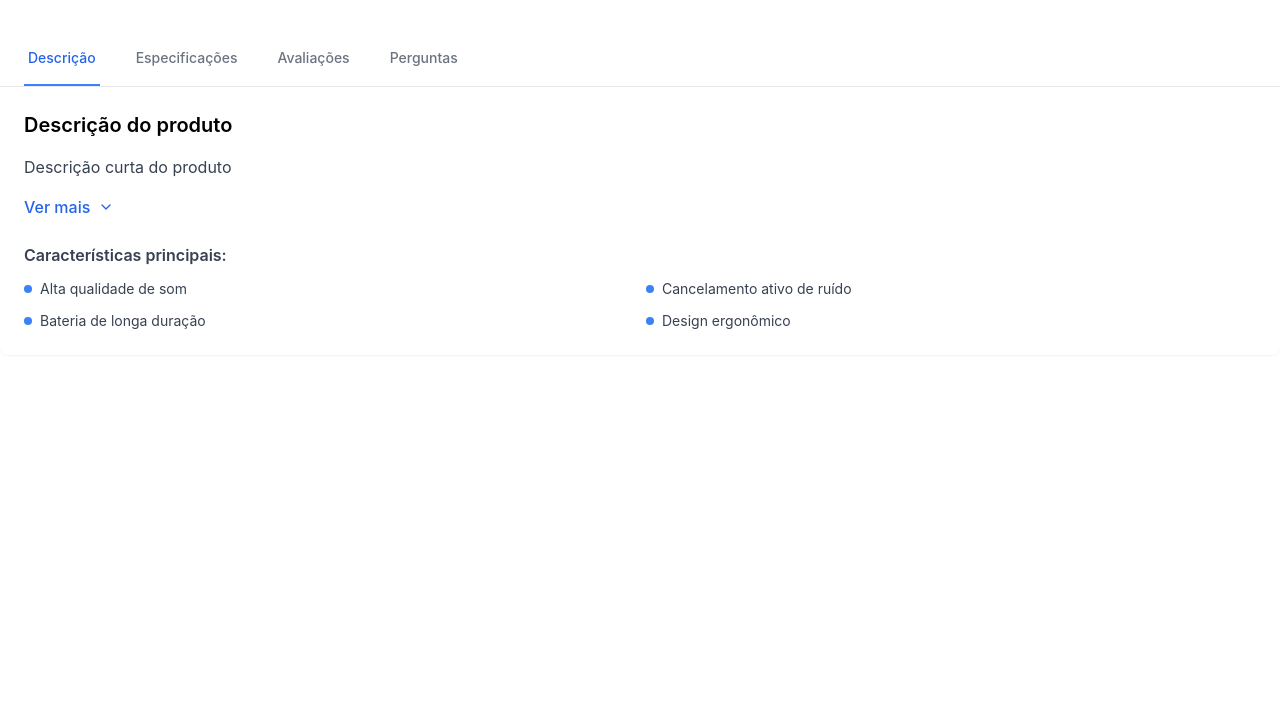
Test: ProductDescription › Tab Navigation › should switch to reviews tab when clicked
Click the tab "Avaliações". click: (314, 59)
box: x1=274 y1=32 x2=354 y2=86
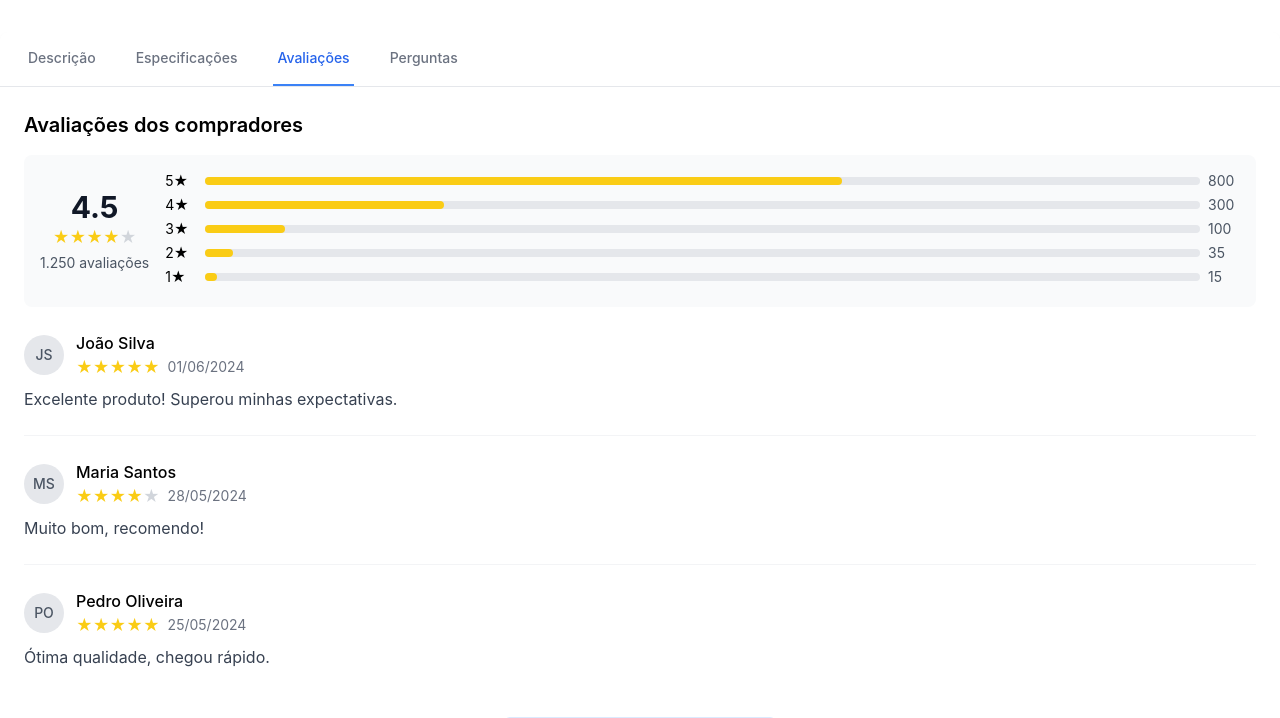
Expected: the heading "Avaliações dos compradores" is shown, x1=24 y1=113 x2=303 y2=137
